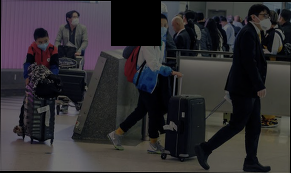with_mask: (257, 12, 273, 32), (155, 22, 169, 38), (35, 37, 50, 51), (69, 15, 80, 27)
